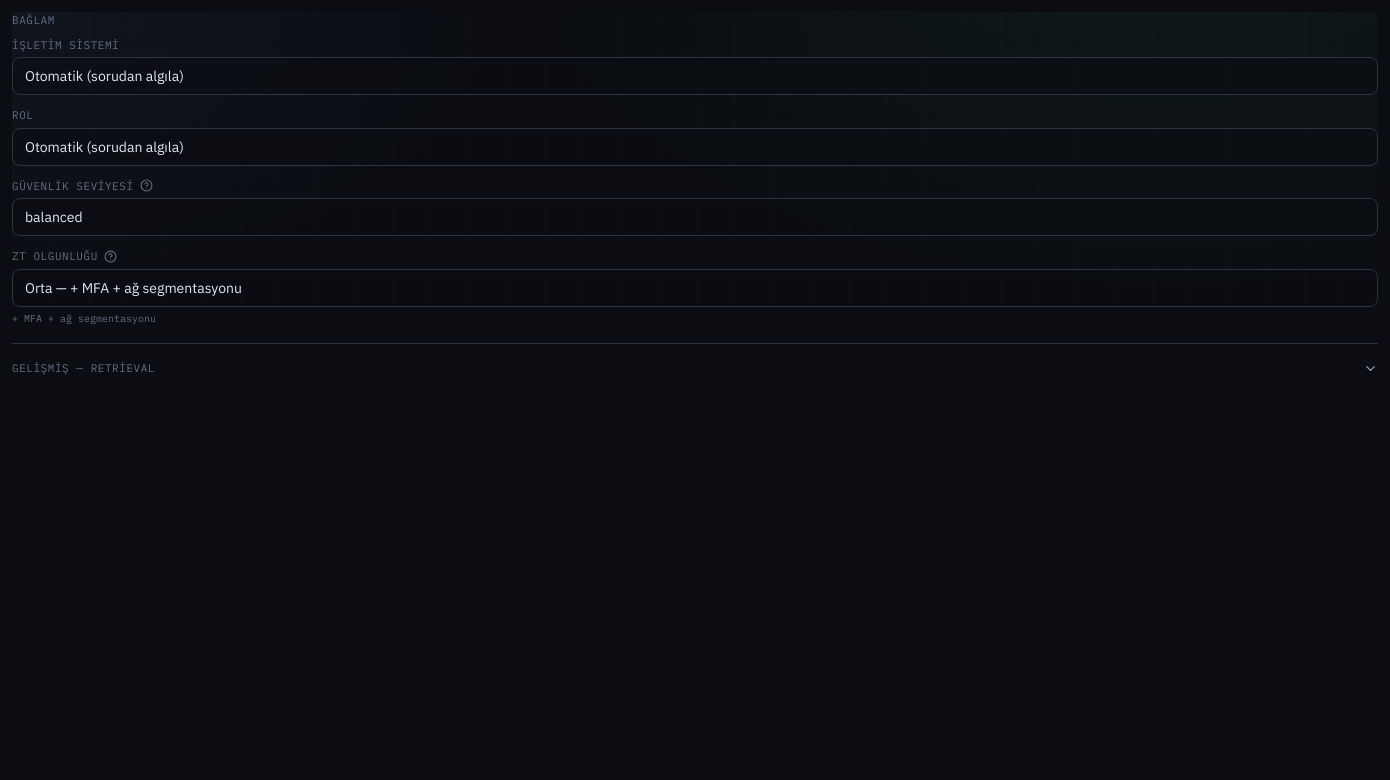
it: ContextControls — RAG-off uyarısı › RAG kapalıyken uydurma riski uyarısı GÖRÜNÜR
Click the button "Gelişmiş — Retrieval".
click(84, 368)  # box [12, 360, 1378, 376]
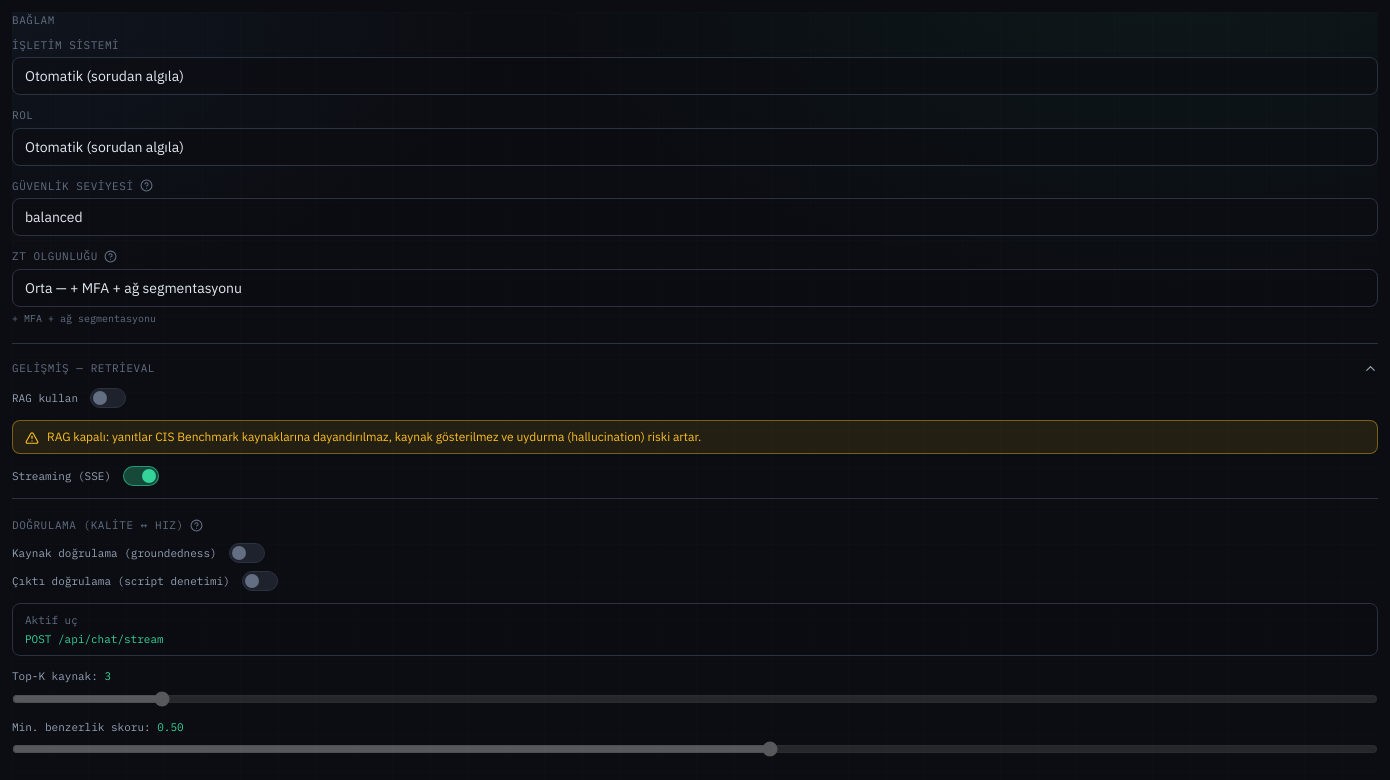
Result: the message is shown at [12, 420, 1378, 454]
Result: the message shows "kaynak" at [47, 429, 701, 444]
